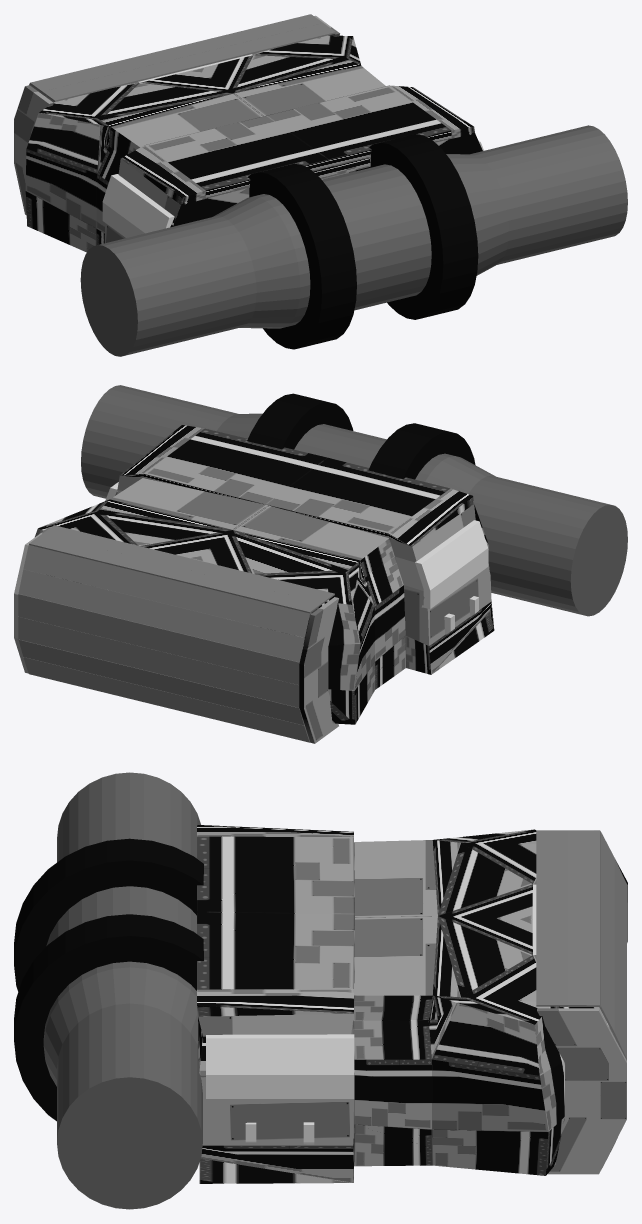
The model's file is shipBridge.glb.
3 renders of one model, top to bottom at view 1: azimuth 30°, elevation 25°; view 2: azimuth 150°, elevation 25°; view 3: azimuth 270°, elevation 25°, orthographic. The views are drawn at different scales.
Visible parts, largest first — view 1: Cylinder, Cube.006, Cylinder.004, Cylinder.005, blastdoor2.004, blastdoor2.003, Cube.011, Cube.007; view 2: Cube.006, Cylinder, blastdoor2.001, blastdoor2.002, blastdoor2, blastdoor1, blastdoor1.002, blastdoor1.003, blastdoor2.003, Cube.007, Cube.011, blastdoor2.004 (+3 smaller); view 3: Cube.006, Cylinder, Cylinder.004, Cylinder.005, Cube.008, Cube.020, blastdoor2.003, blastdoor2.004, blastdoor2.002, blastdoor2.001.
Part boxes in pixels (x1,y1,x2,y2): Cylinder: [80, 125, 627, 356]; Cube.006: [25, 35, 482, 252]; Cylinder.004: [355, 134, 478, 319]; Cylinder.005: [248, 163, 356, 349]; blastdoor2.004: [42, 23, 335, 101]; blastdoor2.003: [30, 14, 322, 92]; Cube.011: [102, 174, 174, 237]; Cube.007: [14, 85, 53, 215]; Cube.006: [35, 425, 494, 724]; Cylinder: [81, 385, 627, 616]; blastdoor2.001: [18, 569, 304, 662]; blastdoor2.002: [23, 545, 309, 637]; blastdoor2: [18, 594, 299, 684]; blastdoor1: [18, 616, 299, 707]; blastdoor1.002: [18, 639, 304, 725]; blastdoor1.003: [23, 657, 309, 741]; blastdoor2.003: [29, 534, 322, 613]; Cube.007: [299, 597, 338, 743]; Cube.011: [415, 520, 488, 608]; blastdoor2.004: [42, 525, 334, 603]; Cube.006: [197, 825, 607, 1183]; Cylinder: [43, 772, 202, 1209]; Cylinder.004: [14, 914, 203, 1121]; Cylinder.005: [14, 838, 203, 991]; Cube.008: [537, 1008, 626, 1174]; Cube.020: [206, 1034, 354, 1098]; blastdoor2.003: [568, 830, 599, 1006]; blastdoor2.004: [536, 830, 567, 1006]; blastdoor2.002: [599, 832, 614, 1032]; blastdoor2.001: [613, 858, 626, 1059].
Bounding box in the file's own units: 23.33 × 7.48 × 19.86.
Materials: 9 (2 with a texture image).
